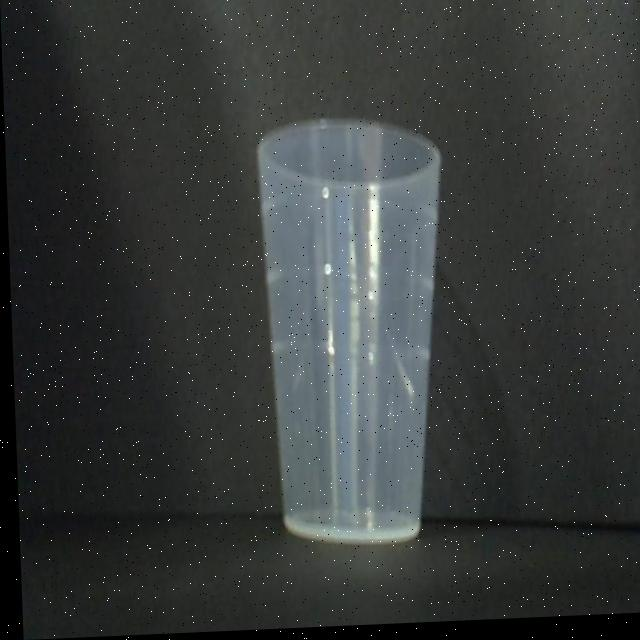cup: (257, 122, 439, 547)
